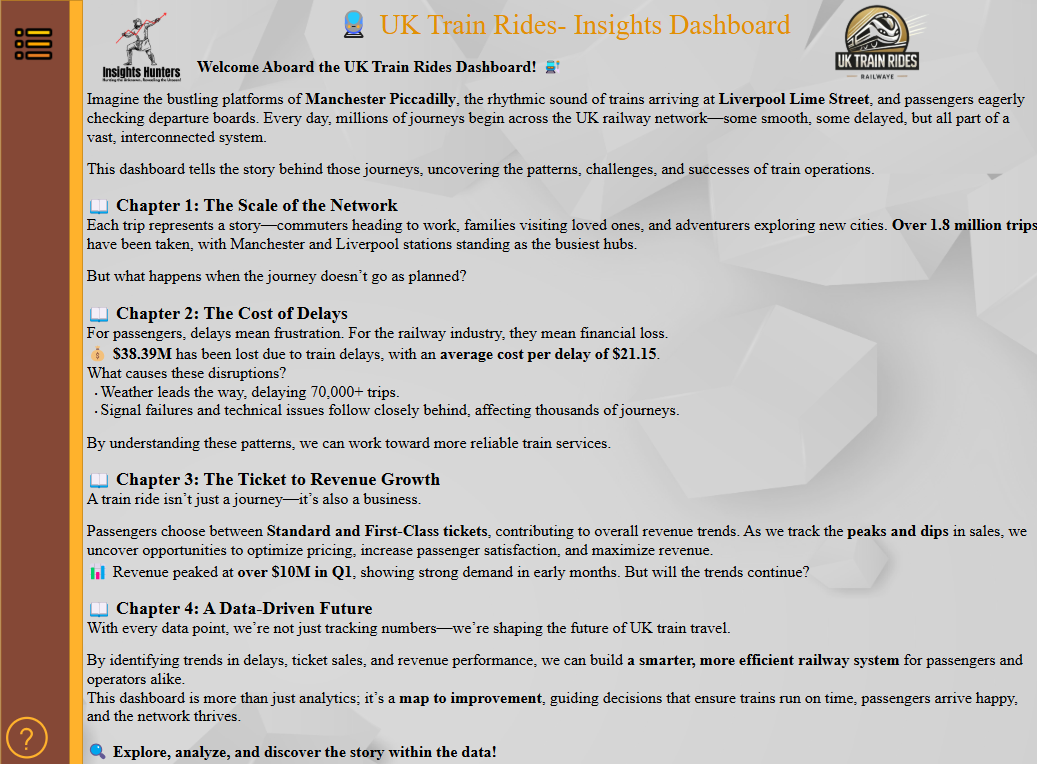

Layout of this report page (visuals, bound fields, positions):
{"tool":"powerbi","page":{"name":"🏠 Home","canvas":[1400,1020],"ordinal":0},"visuals":[{"type":"shape","title":"barshape ","box":[70,0,50,1020],"z":0},{"type":"actionButton","title":"Back button","box":[101.2,0,44.7,51.3],"z":0,"group":"g2"},{"type":"actionButton","title":"Q&A","box":[9.6,948,93.2,70.8],"z":0,"group":"g1"},{"type":"actionButton","title":"Executive dash button","box":[96.4,946.4,377.6,73.9],"z":500,"group":"g2"},{"type":"actionButton","title":"UK Train Rides","box":[96.4,0,1303.1,1018.7],"z":1000},{"type":"actionButton","title":"Menu show button","box":[24.2,1.6,73.7,114.5],"z":1000,"group":"g1"},{"type":"actionButton","title":"Executive dash button","box":[101.4,73.2,370.4,80.2],"z":1000,"group":"g2"},{"type":"shape","title":"main shape menu","box":[10,0,92.5,1020],"z":2000},{"type":"actionButton","title":"Executive dash button","box":[101.2,461.2,371.2,80.3],"z":2000,"group":"g2"},{"type":"shape","title":"barshape ","box":[99.6,1.3,374.4,1018.7],"z":3000},{"type":"actionButton","title":"Executive dash button","box":[101.2,583.3,371.2,80.3],"z":3000,"group":"g2"},{"type":"group","id":"g1","title":"control","box":[9.6,1.6,93.2,1017.1],"z":4000},{"type":"actionButton","title":"Executive dash button","box":[101.2,189.6,371.2,80.3],"z":4000,"group":"g2"},{"type":"group","id":"g2","title":"Menu Objects","box":[96.4,0,377.6,1020.3],"z":5000},{"type":"actionButton","title":"Executive dash button","box":[101.2,326.2,371.2,80.3],"z":5000,"group":"g2"},{"type":"actionButton","title":"Executive dash button","box":[101.2,842,371.2,80.3],"z":6000,"group":"g2"},{"type":"actionButton","title":"Executive dash button","box":[101.2,716.6,371.2,80.3],"z":7000,"group":"g2"},{"type":"image","box":[1092.2,0,187.8,118.3],"z":8000}]}

Visuals, with their boxes in screenshot pixels (x1, y1, x2, y2), scaled from the page's 1400x1020 canvas onto the 1037x764 screenshot:
"barshape " shape: <region>52, 0, 89, 763</region>
"Back button" actionButton: <region>75, 0, 108, 38</region>
"Q&A" actionButton: <region>7, 710, 76, 763</region>
"Executive dash button" actionButton: <region>71, 709, 351, 763</region>
"UK Train Rides" actionButton: <region>71, 0, 1036, 763</region>
"Menu show button" actionButton: <region>18, 1, 73, 87</region>
"Executive dash button" actionButton: <region>75, 55, 349, 115</region>
"main shape menu" shape: <region>7, 0, 76, 763</region>
"Executive dash button" actionButton: <region>75, 345, 350, 406</region>
"barshape " shape: <region>74, 1, 351, 763</region>
"Executive dash button" actionButton: <region>75, 437, 350, 497</region>
"control" group: <region>7, 1, 76, 763</region>
"Executive dash button" actionButton: <region>75, 142, 350, 202</region>
"Menu Objects" group: <region>71, 0, 351, 763</region>
"Executive dash button" actionButton: <region>75, 244, 350, 304</region>
"Executive dash button" actionButton: <region>75, 631, 350, 691</region>
"Executive dash button" actionButton: <region>75, 537, 350, 597</region>
image: <region>809, 0, 948, 89</region>
